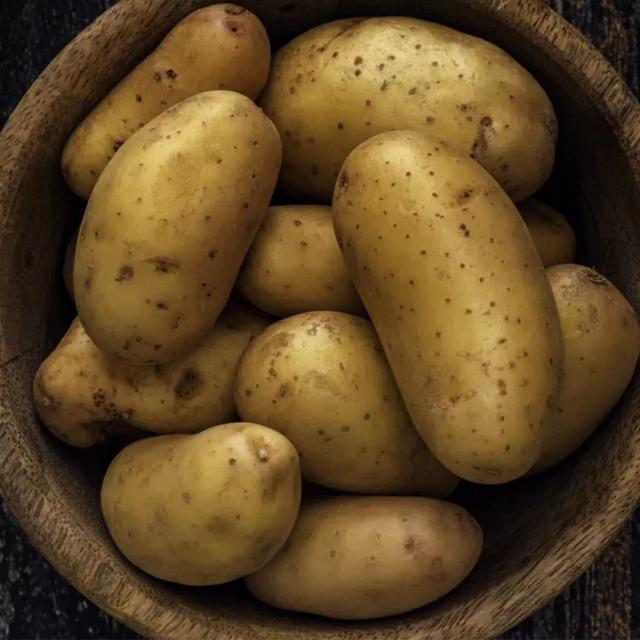papa: (64, 17, 564, 580)
